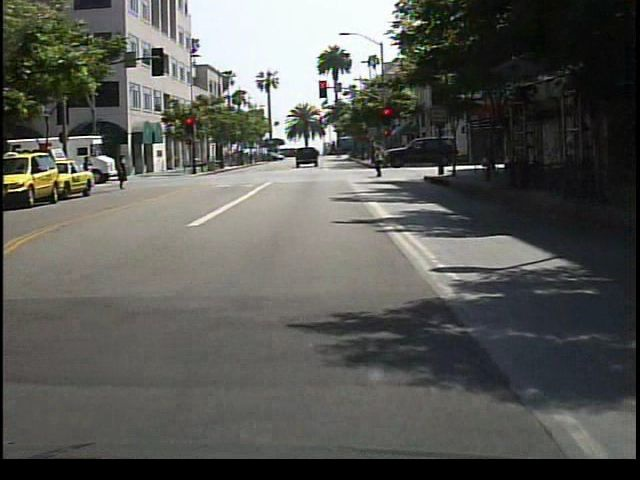person: (478, 138, 498, 183), (371, 147, 391, 181), (115, 157, 131, 193)
